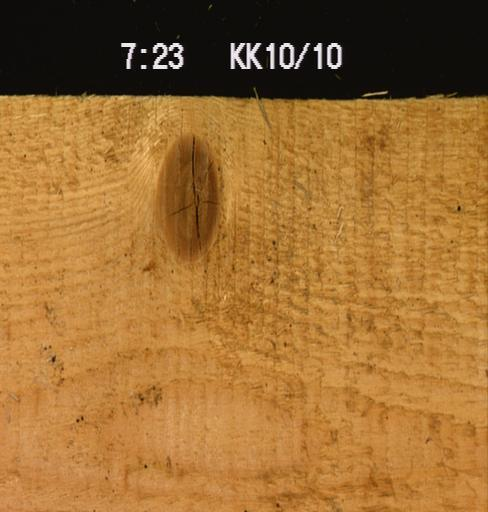sound_knot: (155, 132, 220, 260)
